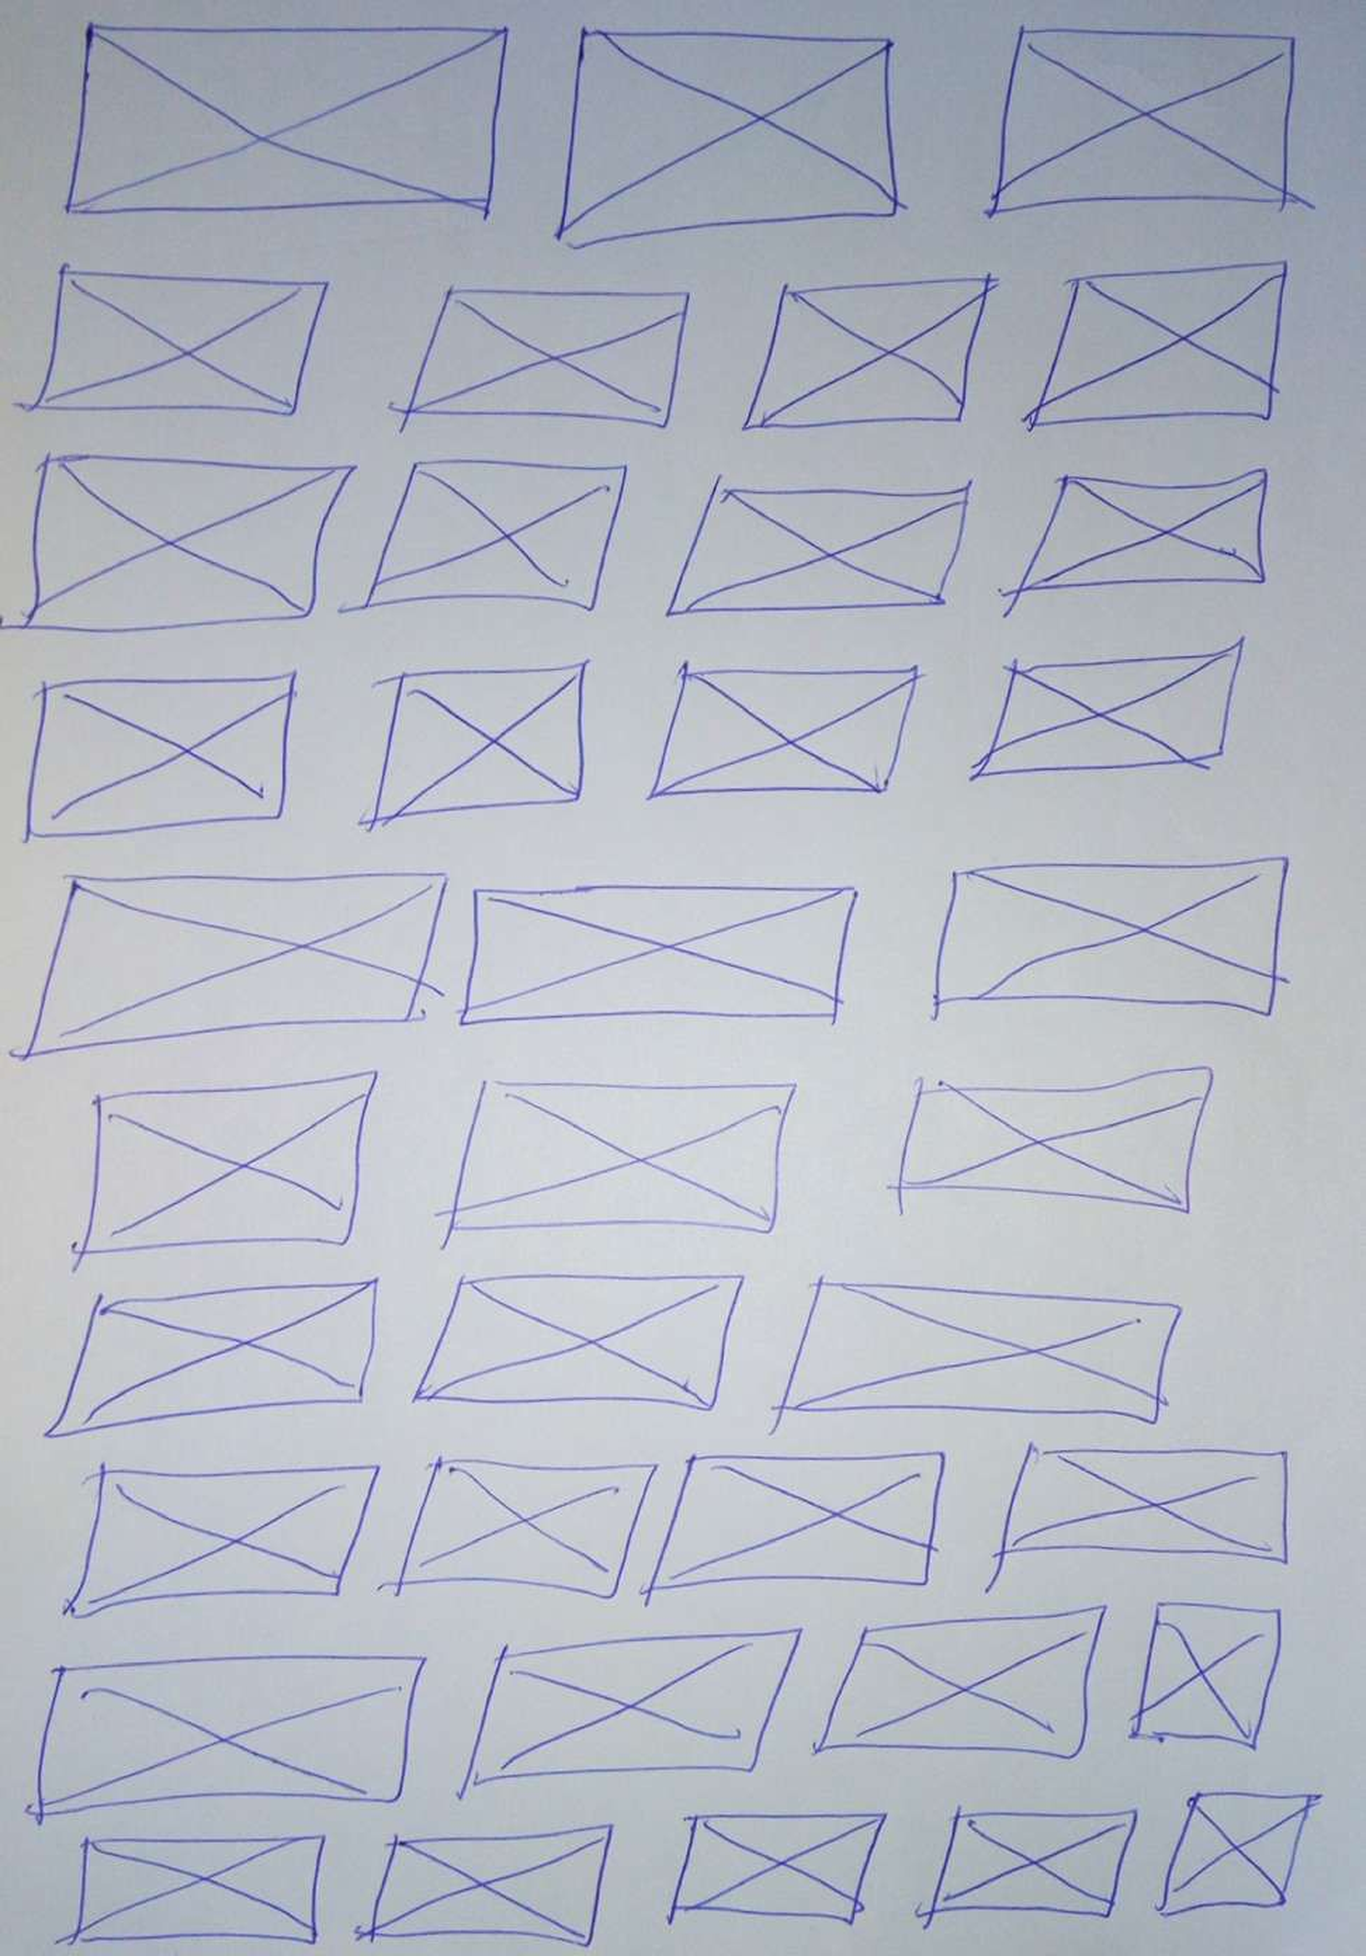Image: (62, 21, 510, 218), (19, 869, 446, 1061), (551, 31, 896, 248), (33, 1651, 425, 1824), (985, 27, 1301, 218), (25, 452, 355, 633), (456, 884, 858, 1027), (458, 1628, 798, 1793), (774, 1280, 1185, 1416), (77, 1069, 378, 1254), (45, 1275, 381, 1439), (444, 1081, 800, 1234), (929, 858, 1292, 1005), (62, 1463, 376, 1619), (24, 670, 297, 843), (25, 265, 327, 418), (896, 1063, 1211, 1208), (412, 1272, 746, 1408), (813, 1604, 1104, 1757), (1029, 260, 1292, 430), (401, 285, 693, 430), (661, 485, 971, 615), (742, 272, 993, 430), (367, 459, 627, 611), (994, 1439, 1295, 1561), (647, 667, 916, 803), (369, 661, 586, 828), (971, 645, 1243, 776), (1012, 468, 1269, 595), (398, 1463, 651, 1589), (64, 1831, 326, 1946), (370, 1827, 615, 1943), (666, 1807, 887, 1916), (929, 1807, 1139, 1920), (1130, 1604, 1286, 1746), (1156, 1793, 1314, 1920)
